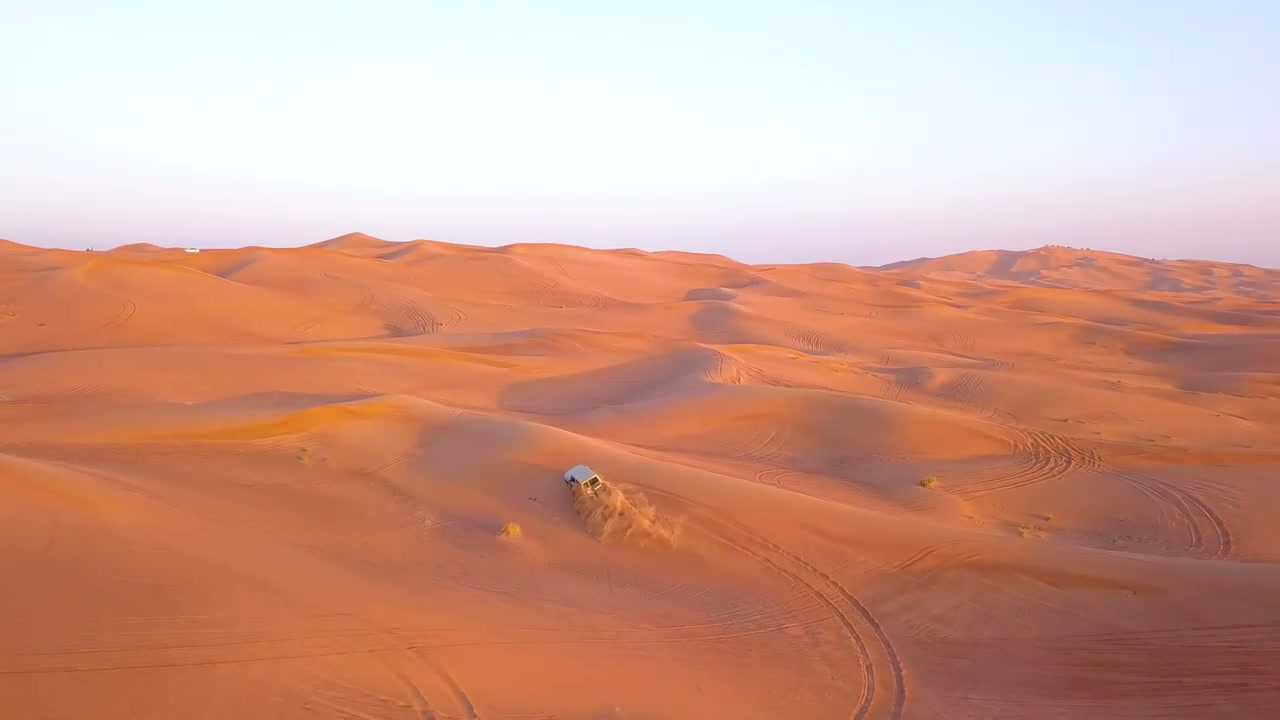vehicle_track: (637, 483, 905, 719), (1098, 463, 1232, 559), (952, 427, 1099, 498), (787, 329, 847, 354), (101, 297, 135, 329)
